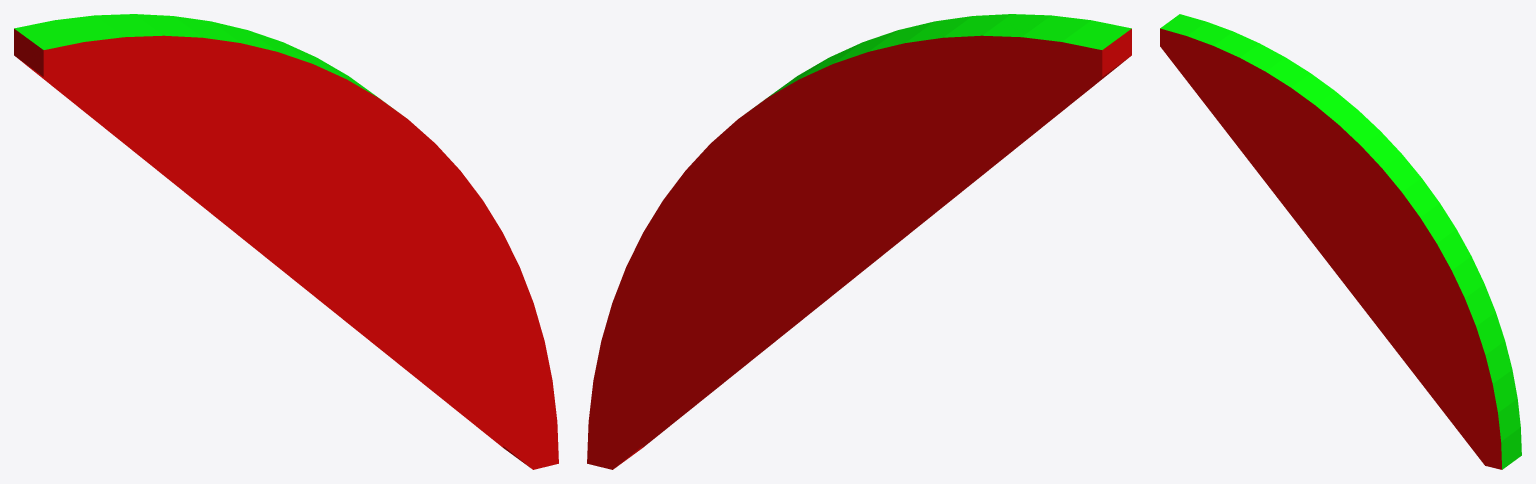
Rendered from SegmentDown3.fbx.
3 renders of one model, left to right at view 1: azimuth 30°, elevation 25°; view 2: azimuth 150°, elevation 25°; view 3: azimuth 330°, elevation 25°, orthographic. The views are drawn at different scales.
Parts seen in each view (by area): view 1: Down_3; view 2: Down_3; view 3: Down_3.
Boxes of the visible parts, box(x1,y1,x2,y2) form: Down_3: box(14, 14, 558, 469); Down_3: box(587, 14, 1131, 469); Down_3: box(1160, 14, 1521, 469).
Bounding box in the file's own units: 2000 × 2000 × 200.
